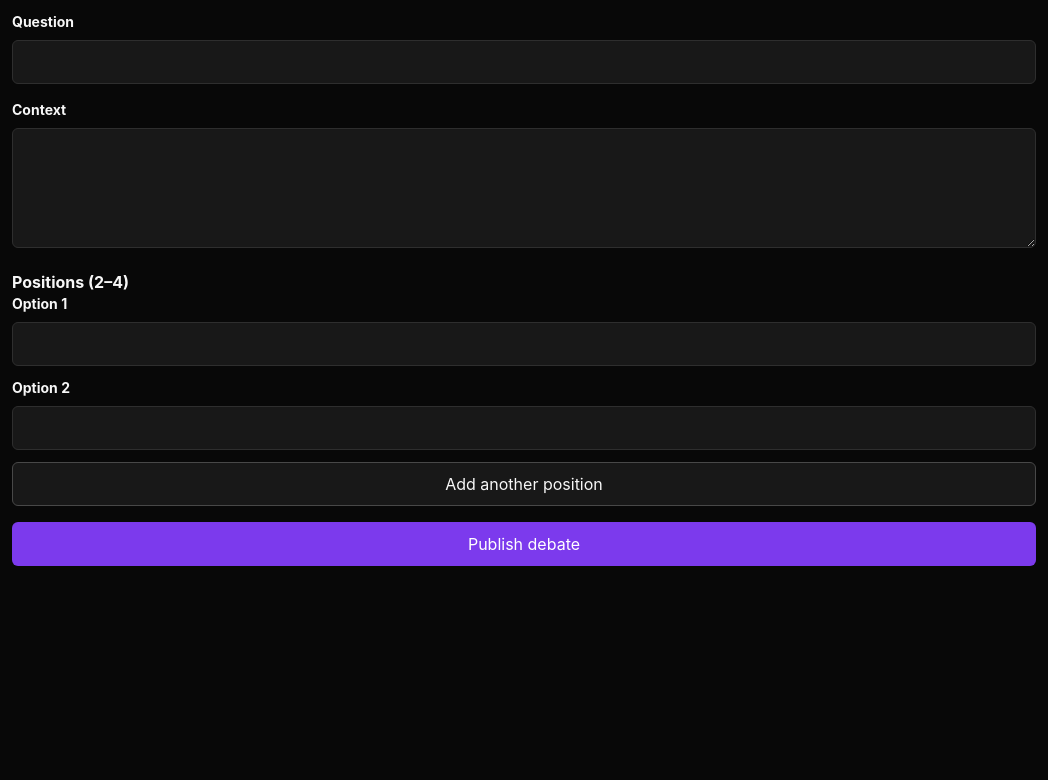
Scenario: participation actions › supports adding a third and fourth debate position, capped at 4
Expected: the field labelled "Option 3" is not shown
What coordinates should you click on to do the following:
click the button "Add another position"
I would click on:
 (524, 484)
Its box is [12,462,1036,506].
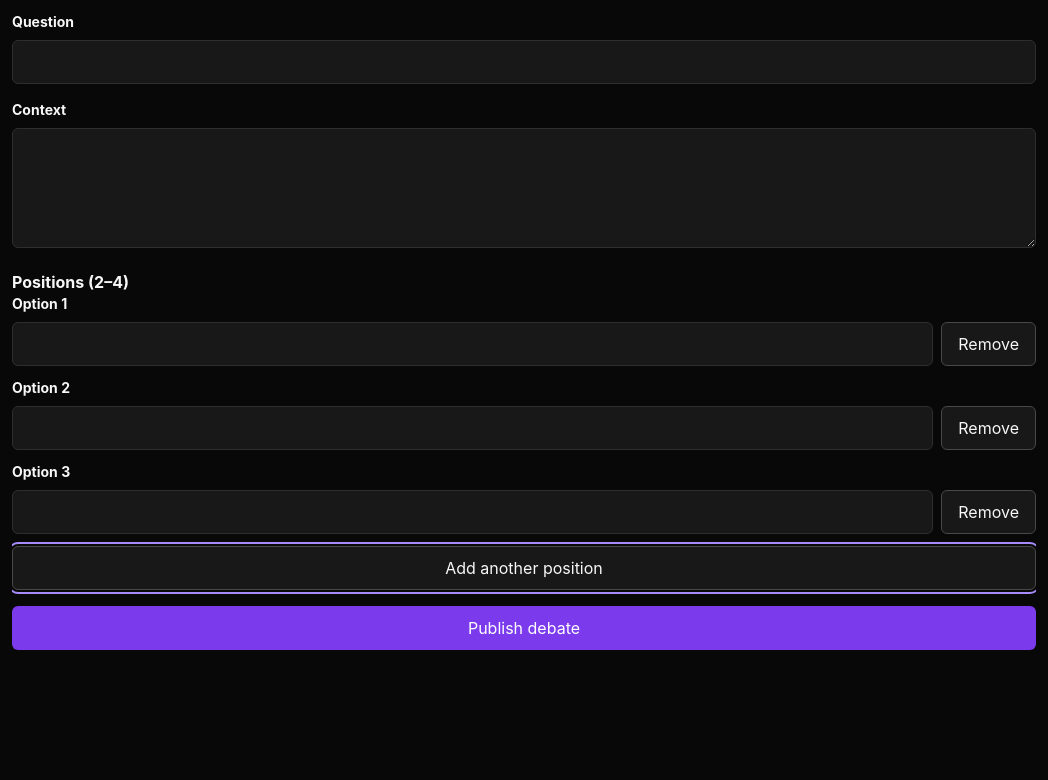
Result: the field labelled "Option 3" is shown at [12,490,933,534]
What coordinates should you click on to do the following:
click the button "Add another position"
I would click on:
 (524, 568)
Its box is [12,546,1036,590].
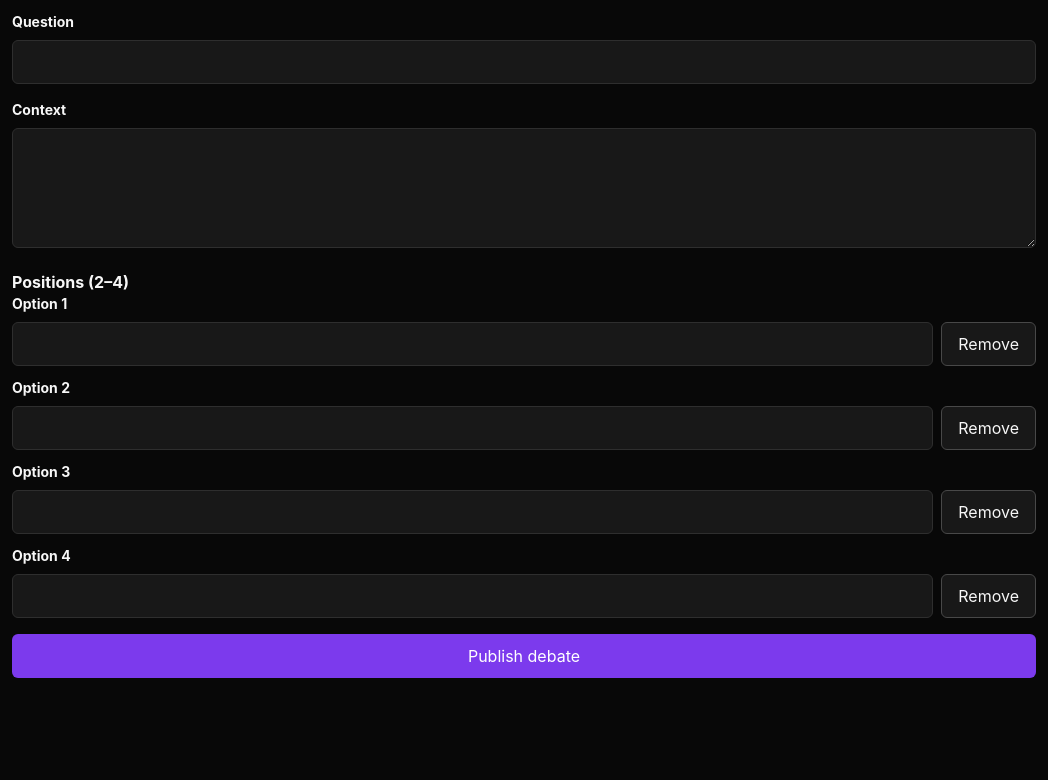
Result: the field labelled "Option 4" is shown at [12,574,933,618]
Result: the button "Add another position" is gone
What coordinates should you click on to do the following:
click the button with aria-label "Remove option 4"
I would click on:
 (989, 596)
Its box is [941,574,1036,618].
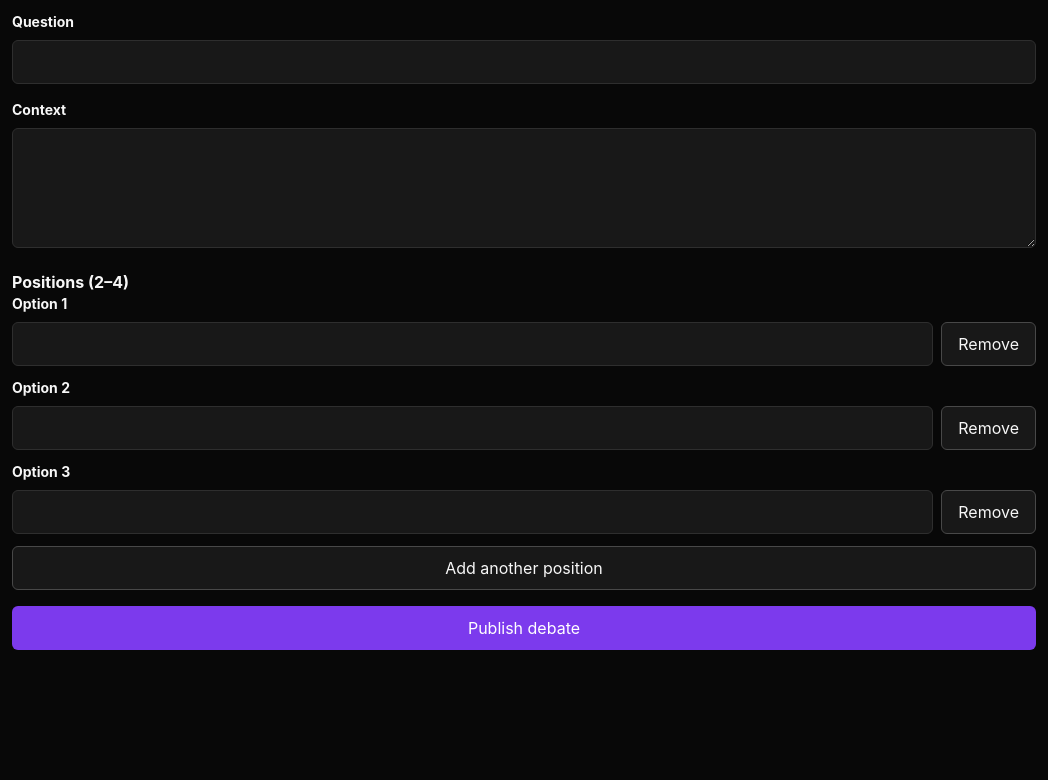
Result: the label labelled "Option 4" is gone
